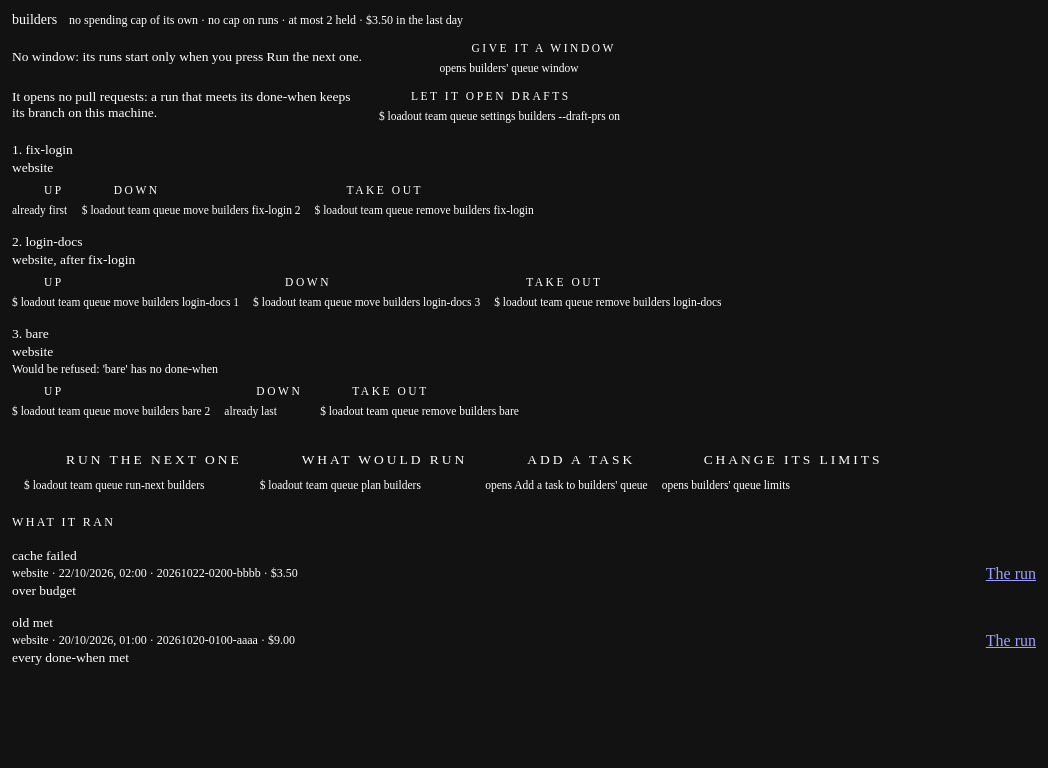
it: QueuePanel › shows what would run, and what would be left and why
The width and height of the screenshot is (1048, 768).
Click the button "What would run" at (365, 460), box [260, 445, 471, 475]
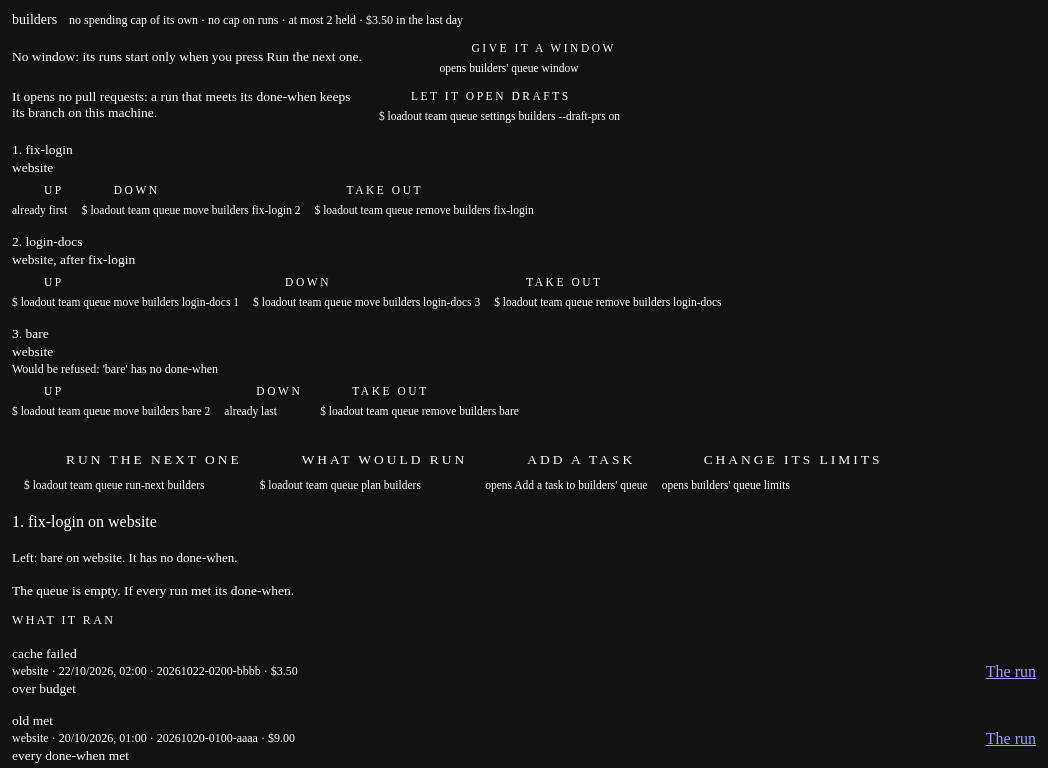
expect the element named "What builders' queue would run" shows "fix-login on website": met, box [12, 513, 294, 598]
expect the element named "What builders' queue would run" shows "Left: bare on website. It has no done-when.": met, box [12, 550, 238, 565]
